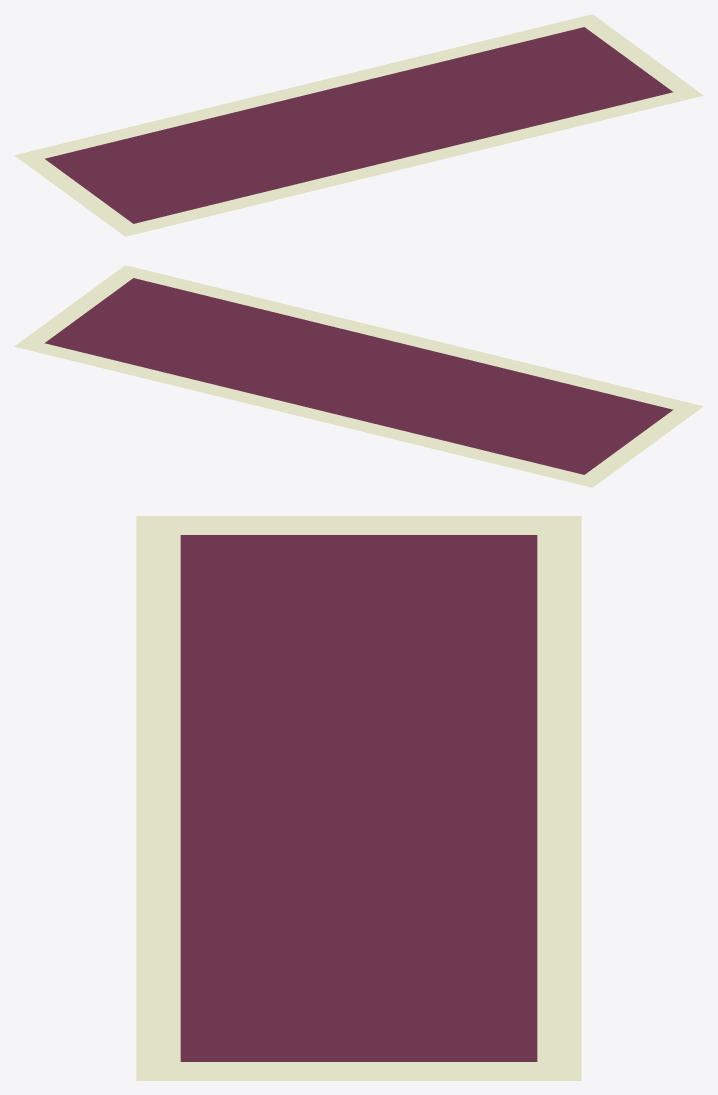
Rendered from Alfombra_Plano.fbx.
3 renders of one model, top to bottom at view 1: azimuth 30°, elevation 25°; view 2: azimuth 150°, elevation 25°; view 3: azimuth 270°, elevation 25°, orthographic. The views are drawn at different scales.
Parts seen in each view (by area): view 1: Alfombra_Plano; view 2: Alfombra_Plano; view 3: Alfombra_Plano.
Part boxes in pixels (x1=…): Alfombra_Plano: x1=14, y1=14, x2=703, y2=236; Alfombra_Plano: x1=14, y1=265, x2=703, y2=487; Alfombra_Plano: x1=136, y1=516, x2=581, y2=1080.
Size of the model in its own units: 6 by 0 by 2.
